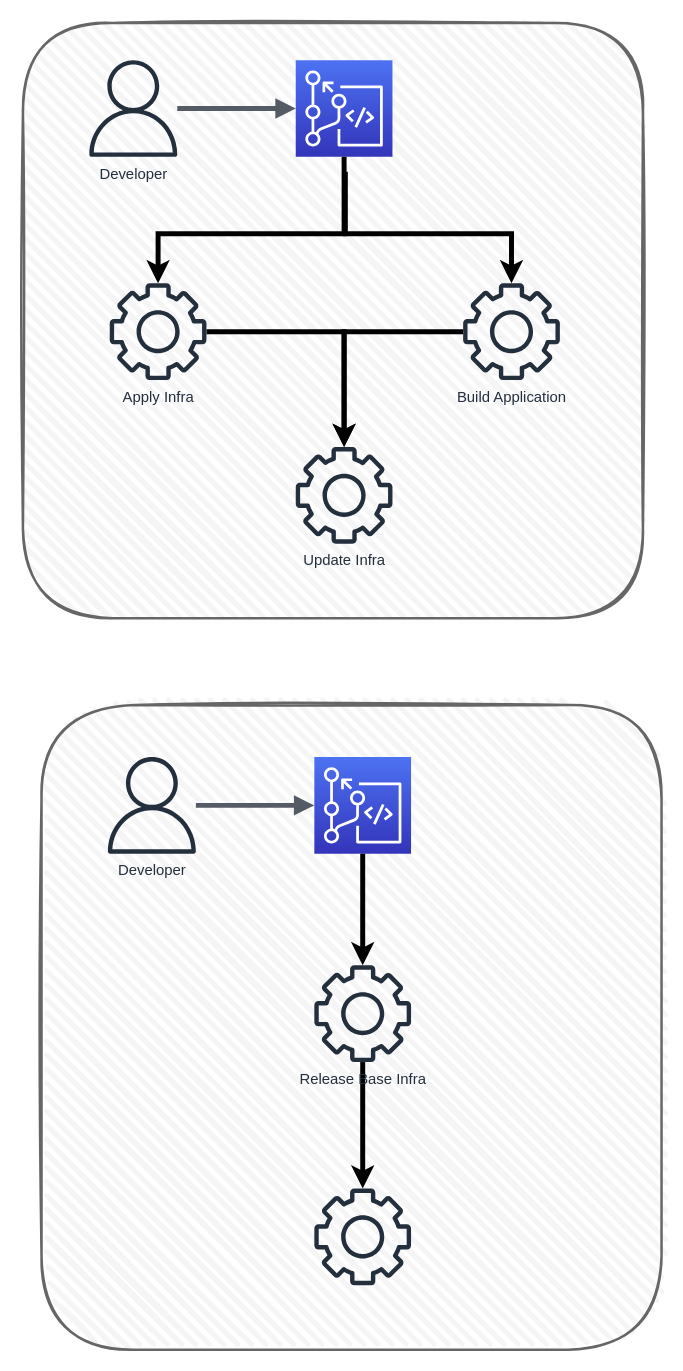
Some shapes in this 683 by 1371 pixel diagram are drawn without their labels. Each missing label, with the centre of its shape:
Code Repository: [343,108]
Create Release: [362,805]
Relase App and Infra: [362,1236]
